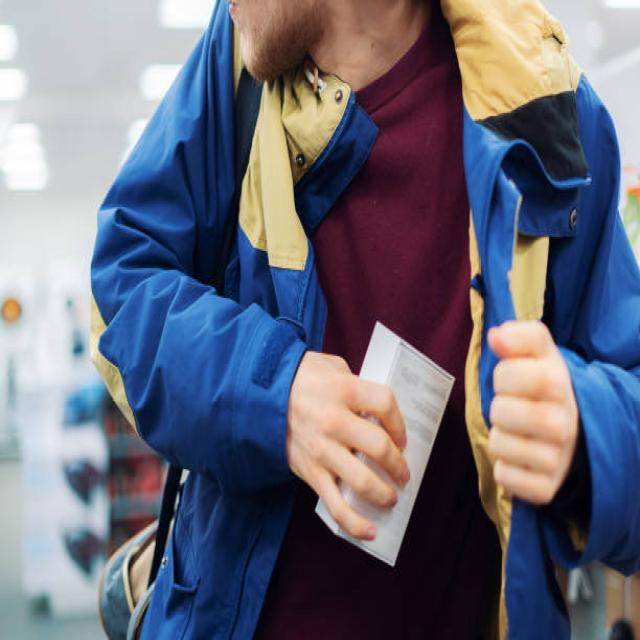article: (316, 322, 454, 565)
bags: (91, 6, 374, 637), (441, 0, 639, 637), (520, 66, 639, 312), (552, 315, 639, 463)
hands: (288, 351, 407, 538), (487, 320, 576, 502)
person: (90, 0, 639, 638)
